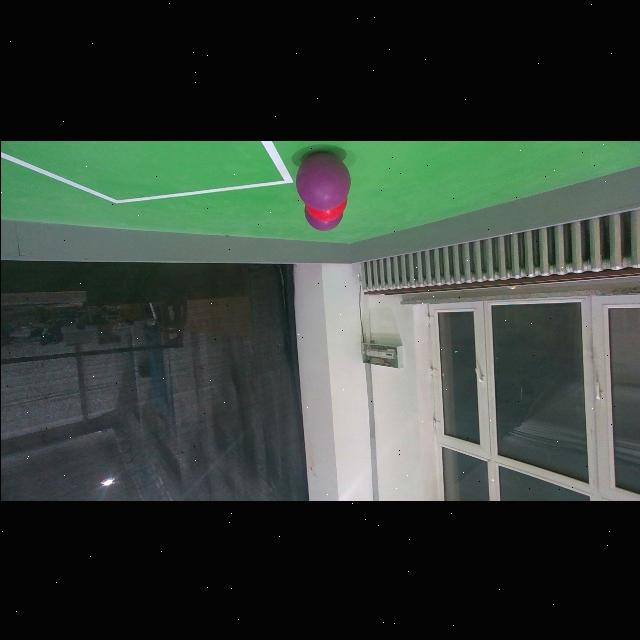P: (294, 150, 350, 210), (299, 214, 343, 230)
R: (304, 196, 346, 220)
